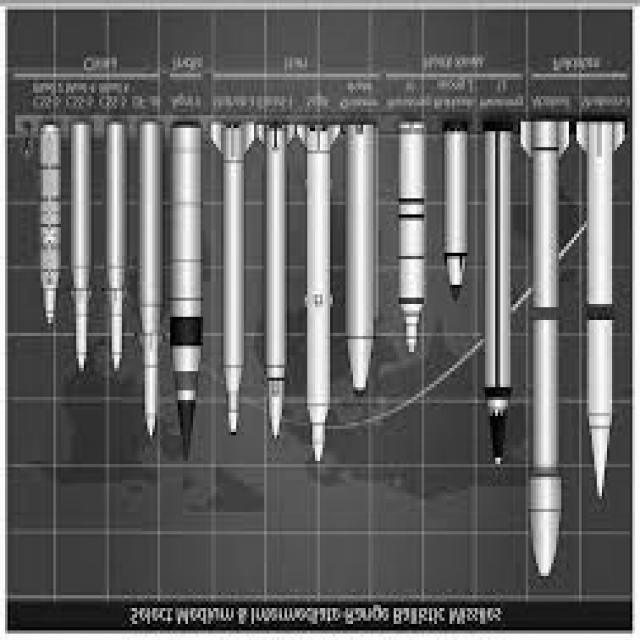Missile: (515, 119, 576, 585), (168, 117, 208, 462), (303, 114, 338, 469), (67, 112, 93, 384)
